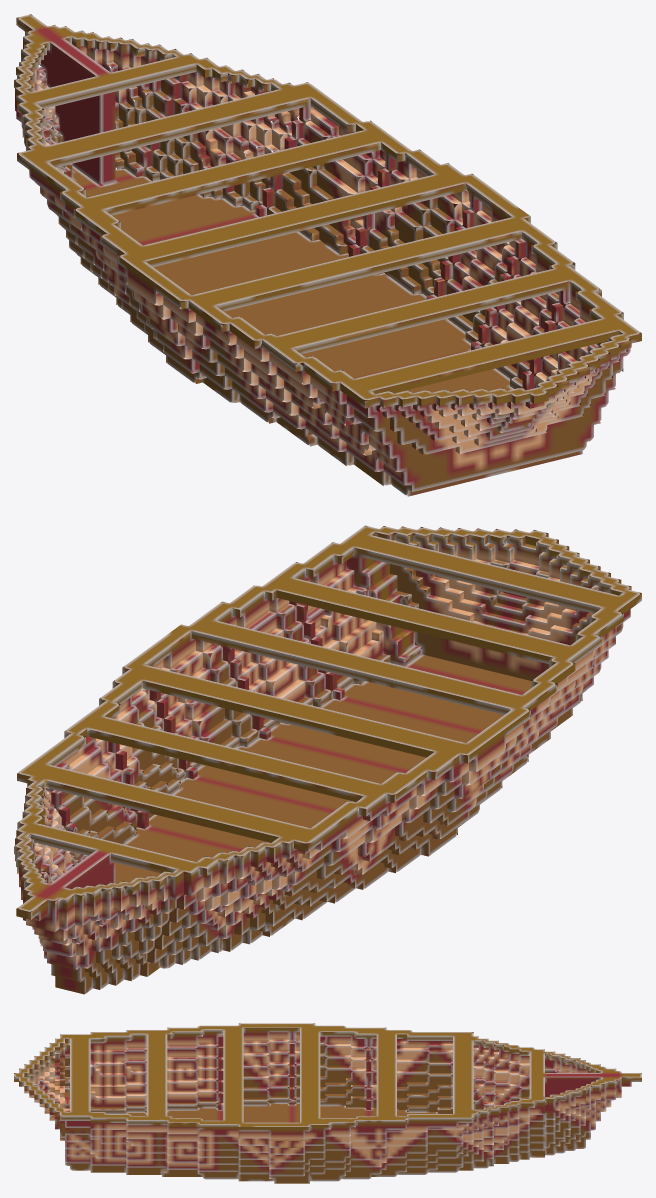
File: Canoa-Leo.fbx
The picture shows the model from 3 angles, top to bottom: view 1: azimuth 30°, elevation 25°; view 2: azimuth 150°, elevation 25°; view 3: azimuth 270°, elevation 25°; orthographic projection. The views are drawn at different scales.
Visible parts, largest first — view 1: Canoa-Leo.001; view 2: Canoa-Leo.001; view 3: Canoa-Leo.001.
Boxes of the visible parts, <box> form: Canoa-Leo.001: <box>14,14,641,496</box>; Canoa-Leo.001: <box>14,525,641,994</box>; Canoa-Leo.001: <box>14,1023,641,1183</box>.
Size of the model in its own units: 4.8 by 1.5 by 12.3.
Materials: 1 (1 with a texture image).
